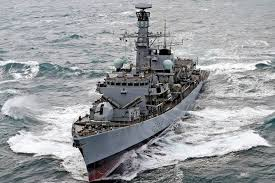tau_muctieu: (73, 10, 211, 183)
